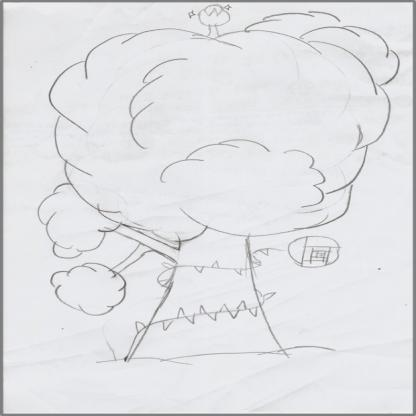crown_cloud: (46, 5, 400, 240)
root_none: (109, 342, 304, 389)
trunk_straight: (138, 273, 278, 344)
